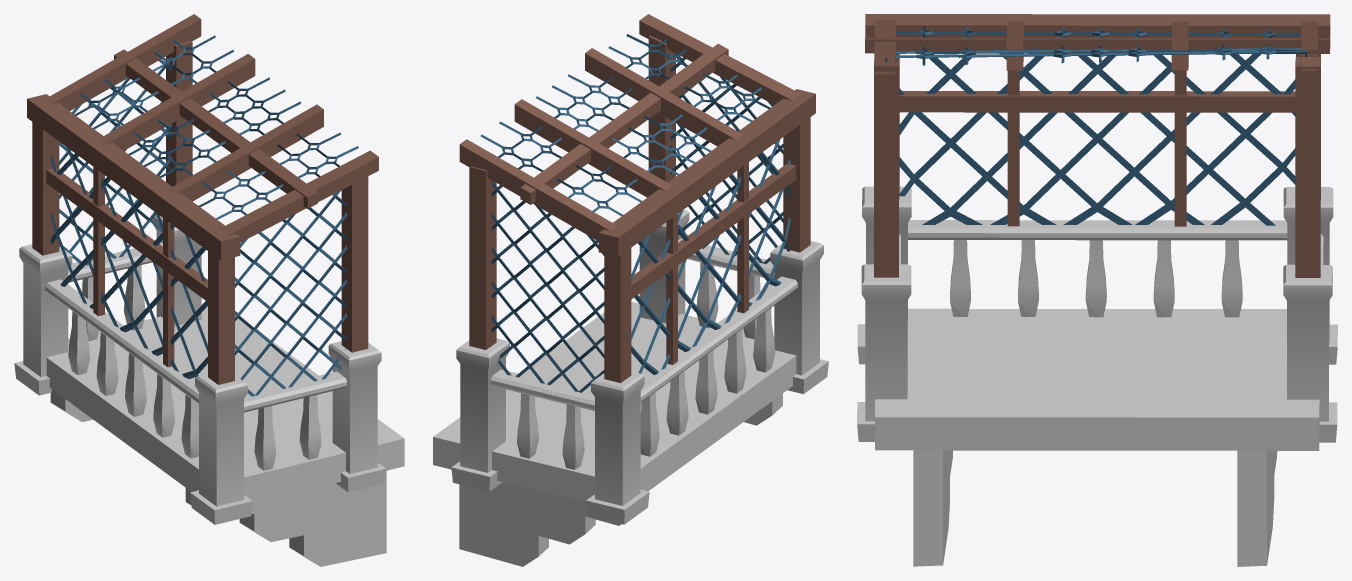
The model's file is balcony_1.FBX.
3 views of the same model, side by side, from view 1: azimuth 30°, elevation 25°; view 2: azimuth 150°, elevation 25°; view 3: azimuth 270°, elevation 25° (orthographic). The views are drawn at different scales.
Visible parts, largest first — view 1: balcony_1_LOD0; view 2: balcony_1_LOD0; view 3: balcony_1_LOD0.
Part boxes in pixels (box(x1,y1,x2,y2)): balcony_1_LOD0: box(14, 14, 404, 566); balcony_1_LOD0: box(433, 14, 828, 566); balcony_1_LOD0: box(857, 14, 1337, 566).
Size of what is drawn, in the model's own units: 209 by 425 by 368.
